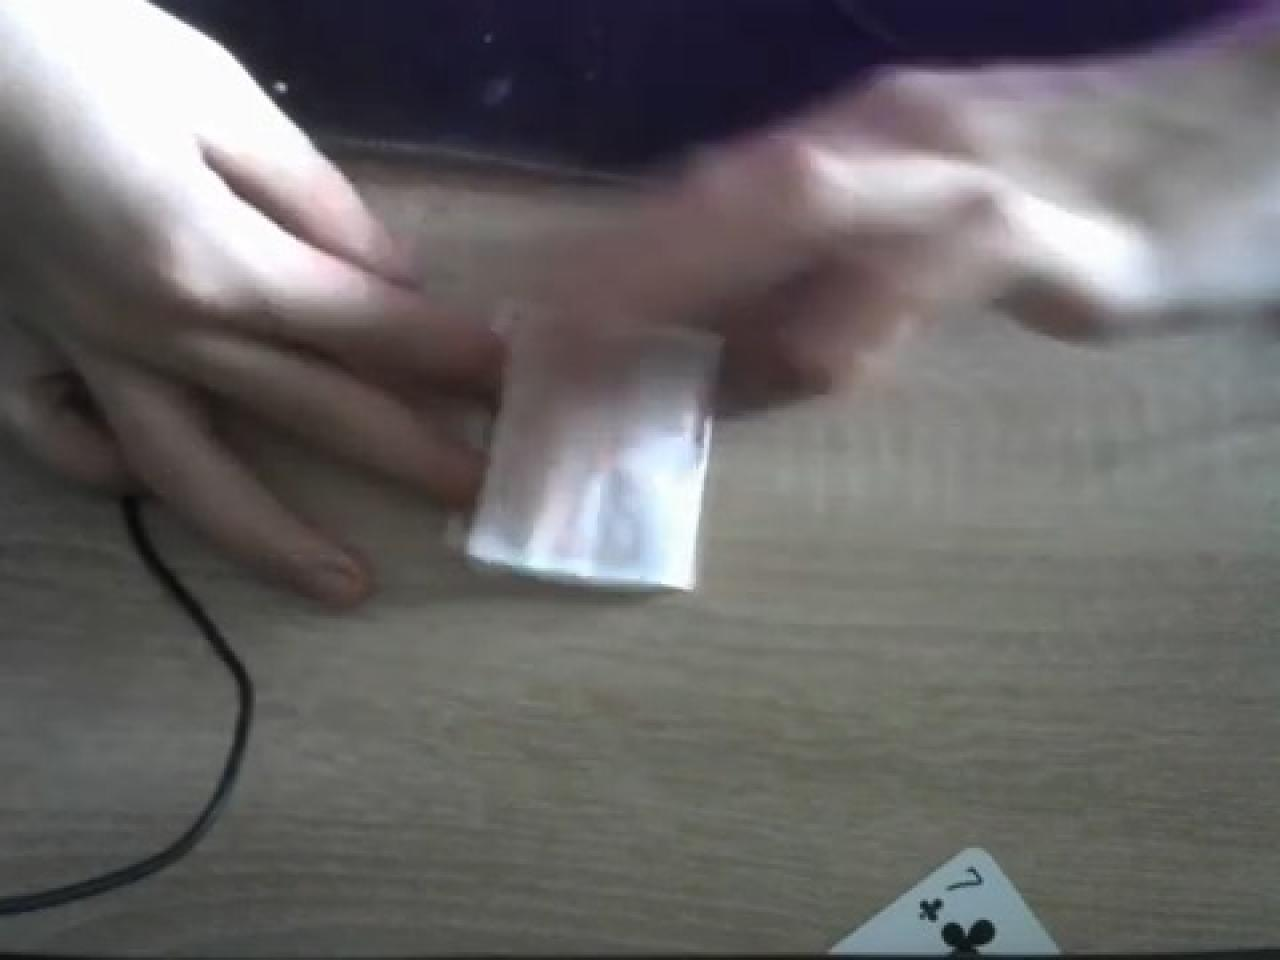5leva: (462, 302, 723, 595)
